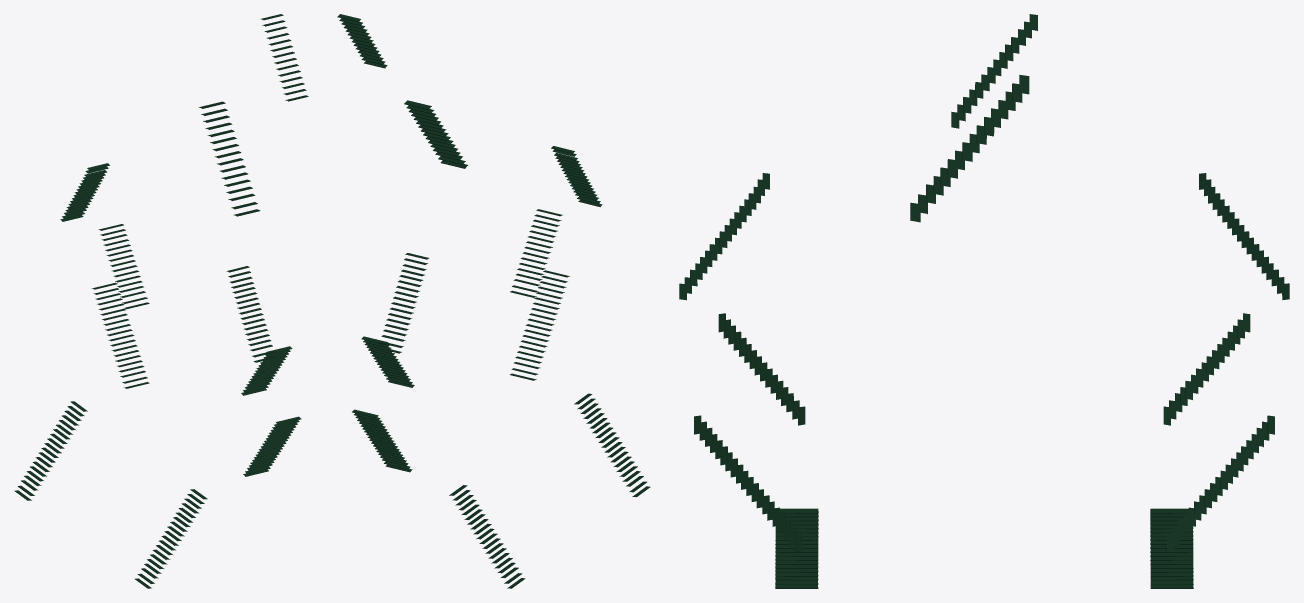
Rendered from Stairs.fbx.
3 renders of one model, left to right at view 1: azimuth 30°, elevation 25°; view 2: azimuth 150°, elevation 25°; view 3: azimuth 270°, elevation 25°, orthographic. The views are drawn at different scales.
Visible parts, largest first — view 1: Control tower_Floor_0.006, Control tower_Floor_0.001, Control tower_Floor_0.007, Control tower_Floor_0.005, Control tower_Floor_0.010, Control tower_Floor_0.003, Control tower_Floor_0.009; view 2: Control tower_Floor_0.006, Control tower_Floor_0.001, Control tower_Floor_0.007, Control tower_Floor_0.005, Control tower_Floor_0.003, Control tower_Floor_0.010, Control tower_Floor_0.009; view 3: Control tower_Floor_0.001, Control tower_Floor_0.006, Control tower_Floor_0.007, Control tower_Floor_0.005, Control tower_Floor_0.010, Control tower_Floor_0.003, Control tower_Floor_0.009.
Part boxes in pixels (x1=…): Control tower_Floor_0.006: x1=91, y1=282, x2=301, y2=476; Control tower_Floor_0.001: x1=14, y1=401, x2=207, y2=588; Control tower_Floor_0.007: x1=98, y1=224, x2=292, y2=395; Control tower_Floor_0.005: x1=199, y1=101, x2=260, y2=216; Control tower_Floor_0.010: x1=60, y1=163, x2=109, y2=221; Control tower_Floor_0.003: x1=226, y1=266, x2=276, y2=362; Control tower_Floor_0.009: x1=260, y1=14, x2=308, y2=101; Control tower_Floor_0.006: x1=352, y1=270, x2=569, y2=472; Control tower_Floor_0.001: x1=449, y1=393, x2=650, y2=588; Control tower_Floor_0.007: x1=361, y1=209, x2=562, y2=387; Control tower_Floor_0.005: x1=404, y1=100, x2=467, y2=168; Control tower_Floor_0.003: x1=551, y1=146, x2=602, y2=207; Control tower_Floor_0.010: x1=378, y1=253, x2=429, y2=353; Control tower_Floor_0.009: x1=337, y1=14, x2=387, y2=68; Control tower_Floor_0.001: x1=775, y1=508, x2=1193, y2=588; Control tower_Floor_0.006: x1=694, y1=415, x2=1274, y2=552; Control tower_Floor_0.007: x1=718, y1=313, x2=1250, y2=425; Control tower_Floor_0.005: x1=910, y1=74, x2=1029, y2=222; Control tower_Floor_0.010: x1=1199, y1=173, x2=1289, y2=300; Control tower_Floor_0.003: x1=679, y1=173, x2=769, y2=300; Control tower_Floor_0.009: x1=951, y1=14, x2=1037, y2=128.
Size of the model in its own units: 793 by 1615 by 1237.
